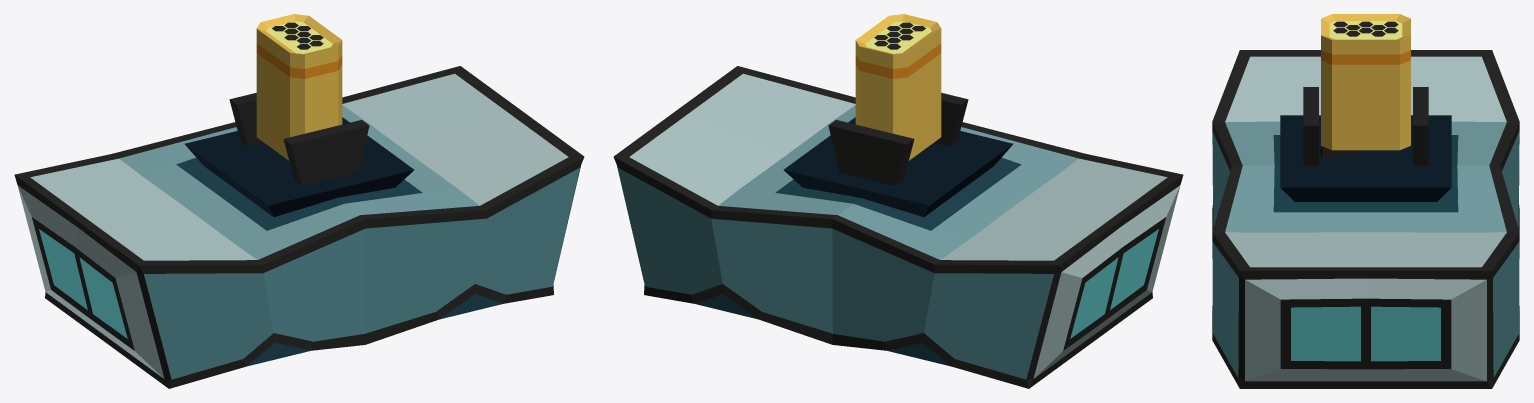
Rendered from tankRocket.fbx.
3 views of the same model, side by side, from view 1: azimuth 30°, elevation 25°; view 2: azimuth 150°, elevation 25°; view 3: azimuth 270°, elevation 25° (orthographic).
Visible parts, largest first — view 1: TankRocket, TankRocketMountingPoint, TankRocketBarrel; view 2: TankRocket, TankRocketMountingPoint, TankRocketBarrel; view 3: TankRocket, TankRocketMountingPoint, TankRocketBarrel.
Boxes of the visible parts, box(x1,y1,x2,y2) form: TankRocket: box(14, 66, 584, 388); TankRocketMountingPoint: box(184, 93, 414, 216); TankRocketBarrel: box(256, 14, 342, 160); TankRocket: box(613, 66, 1183, 388); TankRocketMountingPoint: box(783, 93, 1013, 216); TankRocketBarrel: box(855, 14, 941, 160); TankRocket: box(1212, 50, 1519, 388); TankRocketMountingPoint: box(1280, 87, 1451, 201); TankRocketBarrel: box(1321, 14, 1410, 150).
Bounding box in the file's own units: 93.35 × 54.6 × 54.14.
Materials: 1 (1 with a texture image).
